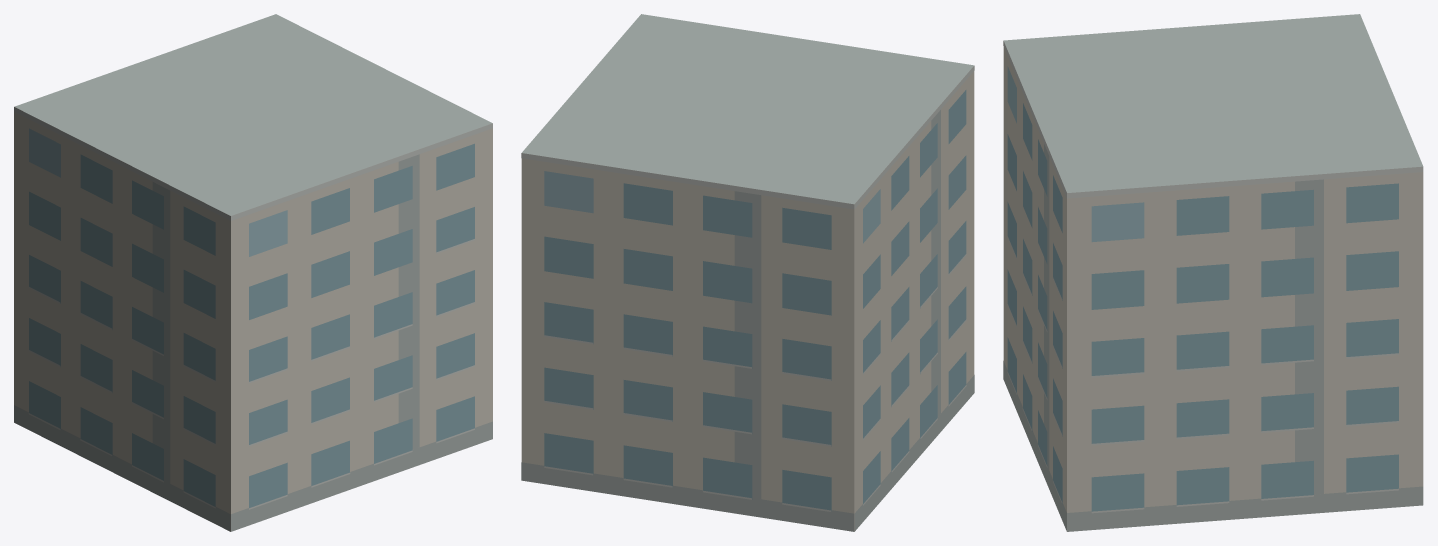
File: residential-07d6a5c0-0b59-4808-9927-070cc52e1ccc.glb
3 renders of one model, left to right at view 1: azimuth 30°, elevation 25°; view 2: azimuth 150°, elevation 25°; view 3: azimuth 270°, elevation 25°, orthographic. The views are drawn at different scales.
Visible parts, largest first — view 1: residential-07d6a5c0-0b59-4808-9927-070cc52e1ccc.tmp; view 2: residential-07d6a5c0-0b59-4808-9927-070cc52e1ccc.tmp; view 3: residential-07d6a5c0-0b59-4808-9927-070cc52e1ccc.tmp.
Boxes of the visible parts, <box> form: residential-07d6a5c0-0b59-4808-9927-070cc52e1ccc.tmp: <box>14,14,492,531</box>; residential-07d6a5c0-0b59-4808-9927-070cc52e1ccc.tmp: <box>521,14,974,531</box>; residential-07d6a5c0-0b59-4808-9927-070cc52e1ccc.tmp: <box>1003,14,1423,531</box>.
Size of the model in its own units: 17.3 by 15.25 by 17.14.
